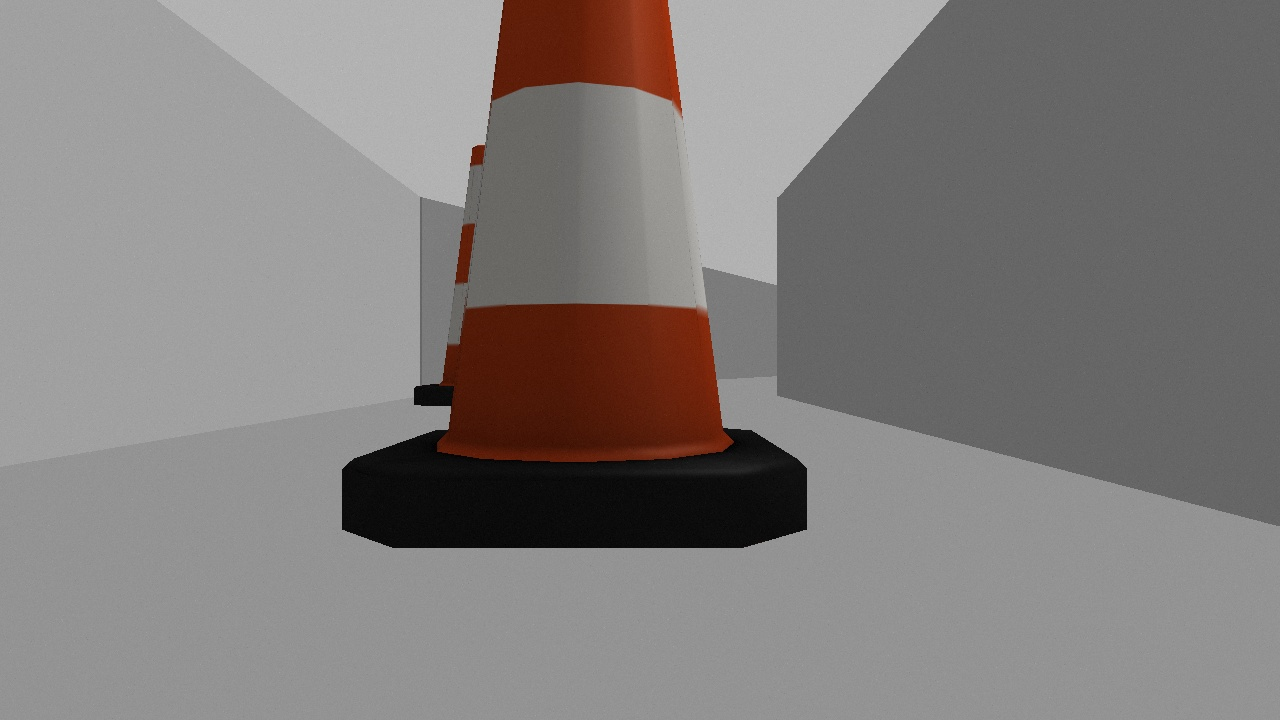barricade: (313, 1, 839, 567), (395, 126, 530, 414)
